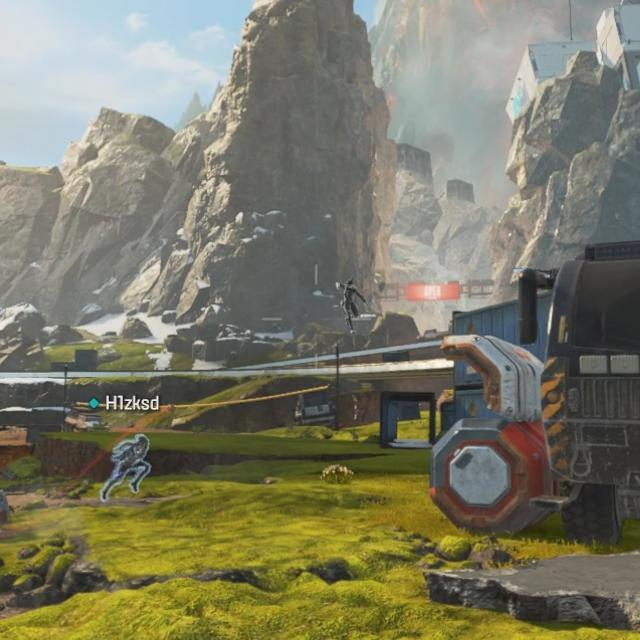avatar: (109, 430, 151, 496), (334, 276, 368, 332)
